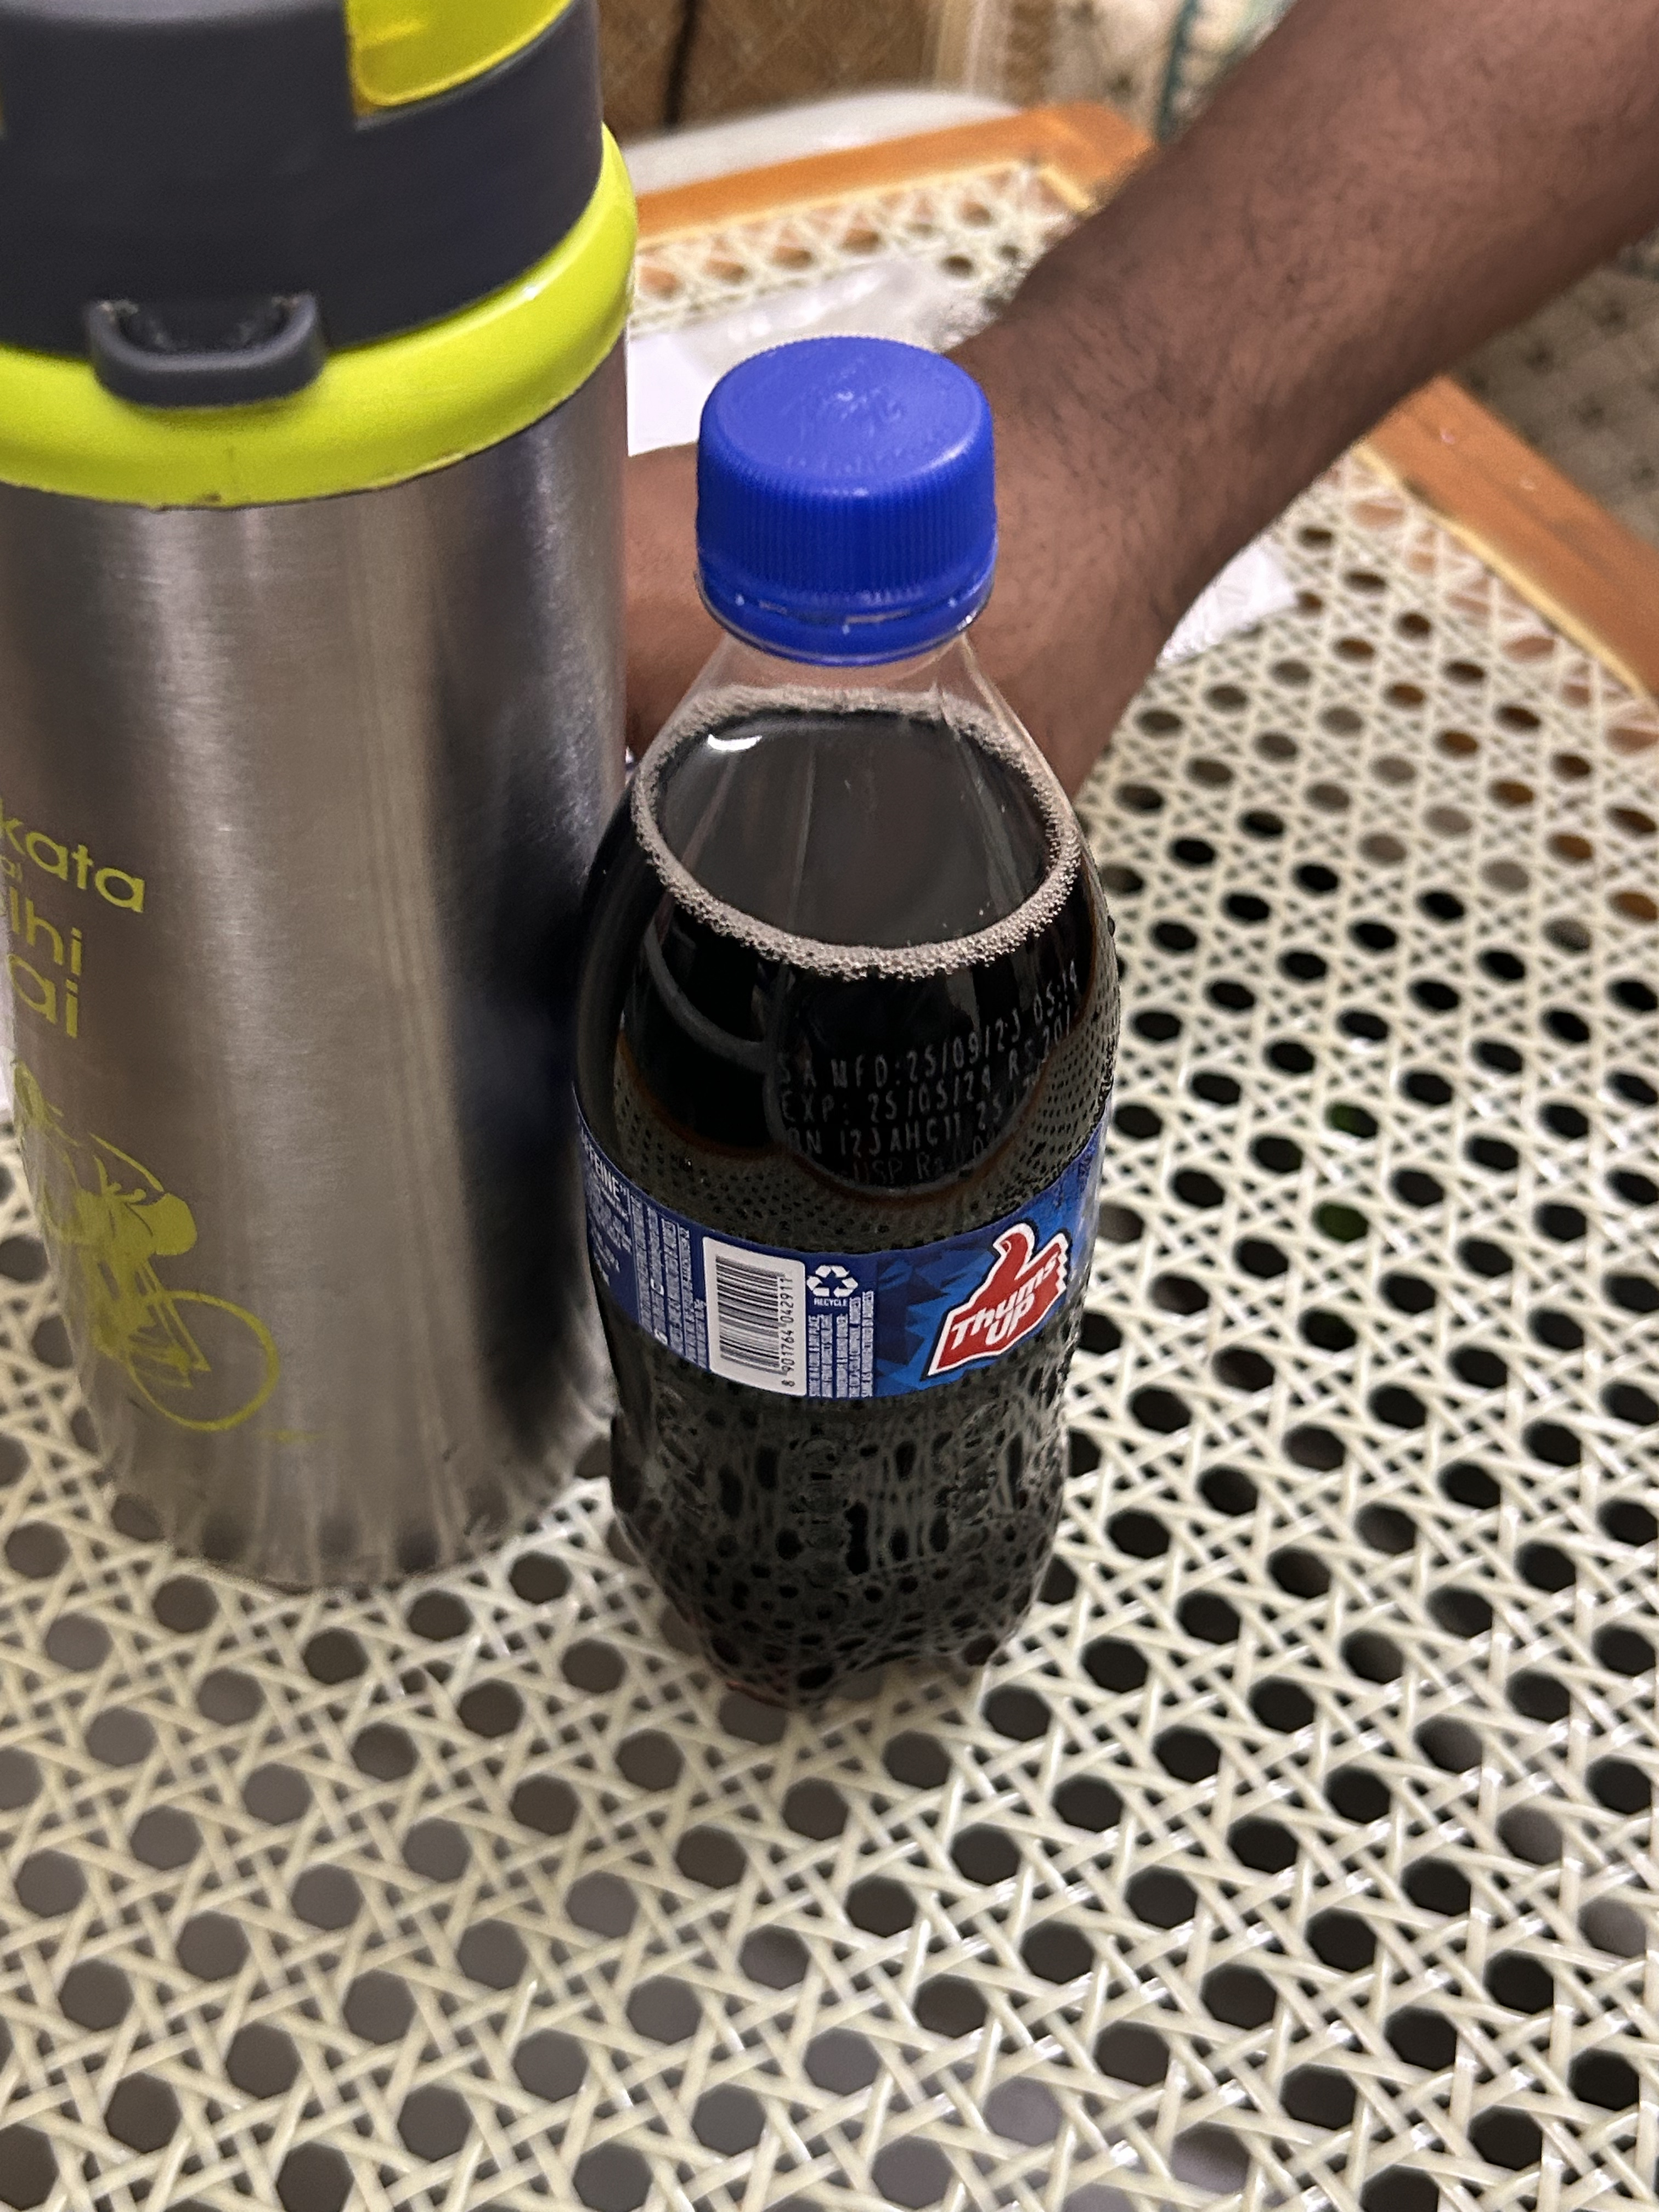unsealed: (683, 319, 1007, 695)
